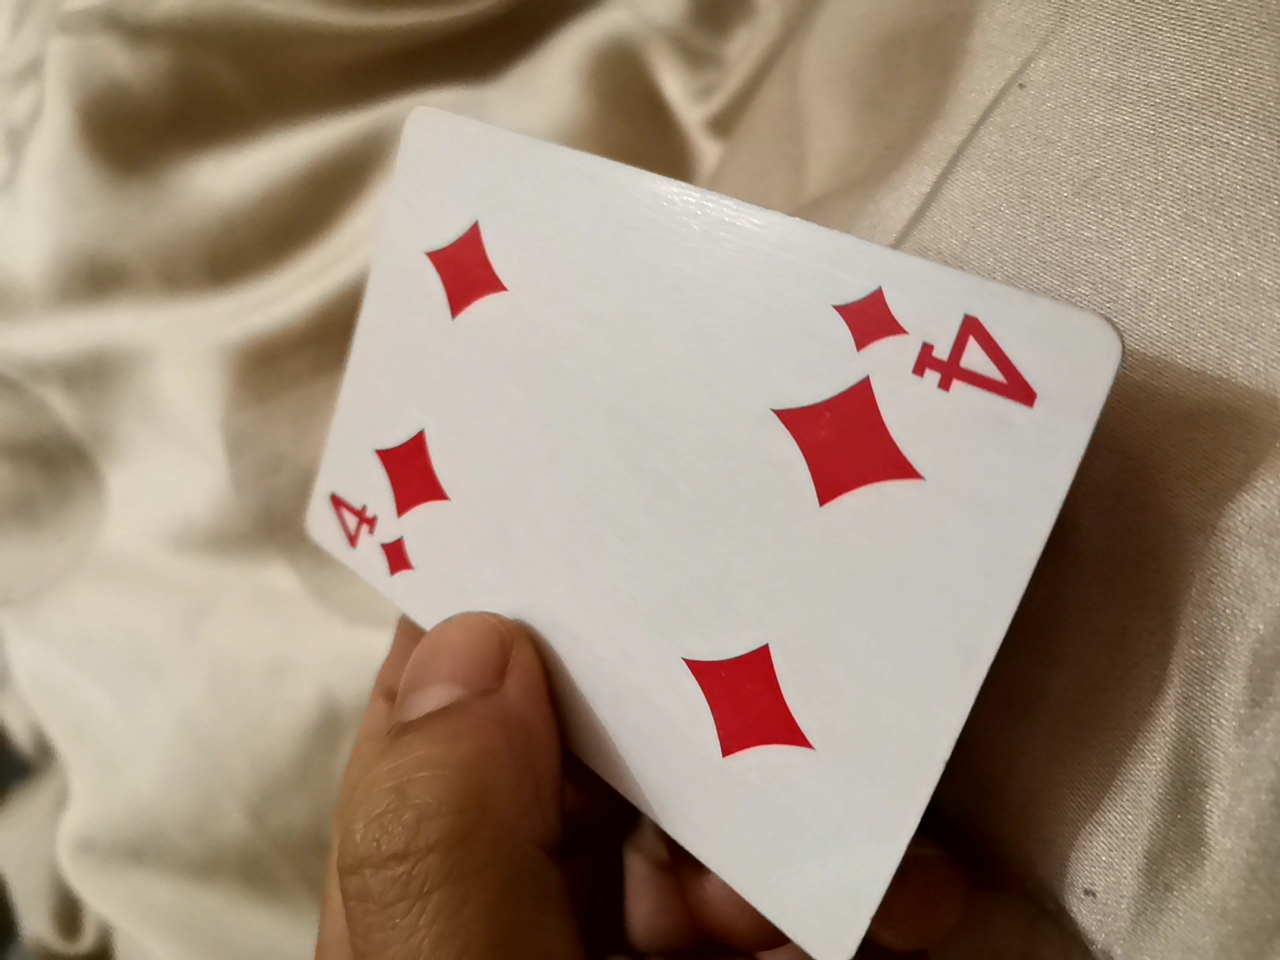fk 4: (260, 96, 1111, 944)
